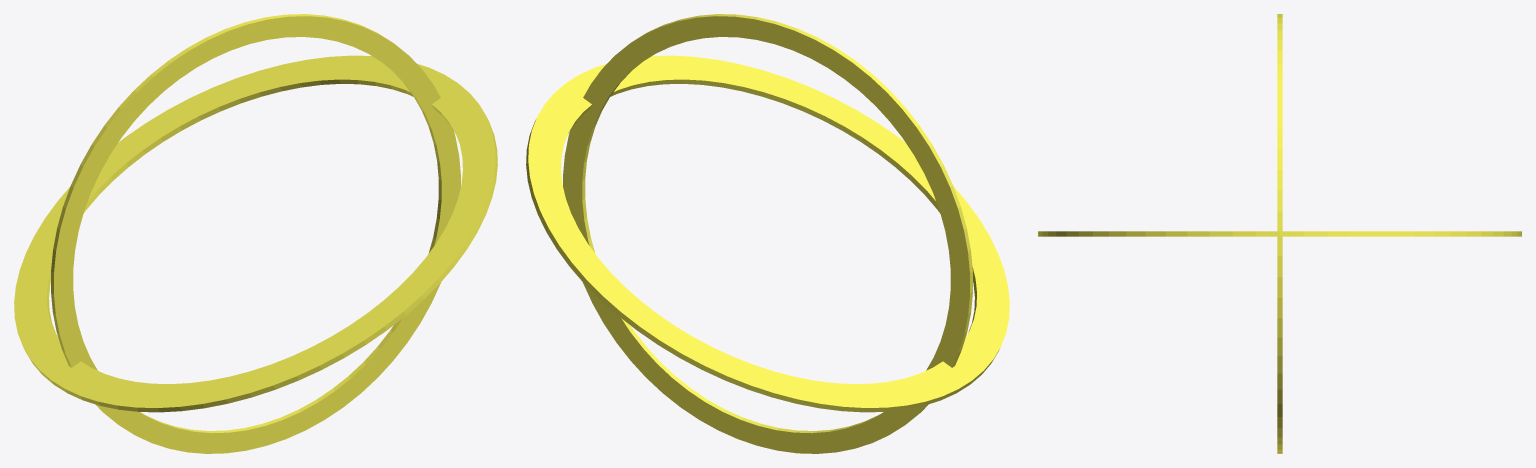
The model's file is frame.glb.
The picture shows the model from 3 angles, left to right: view 1: azimuth 30°, elevation 25°; view 2: azimuth 150°, elevation 25°; view 3: azimuth 270°, elevation 25°; orthographic projection. The views are drawn at different scales.
Visible parts, largest first — view 1: frame1; view 2: frame1; view 3: frame1.
Boxes of the visible parts, left/top/right/bottom form: frame1: left=14, top=14, right=497, bottom=453; frame1: left=526, top=14, right=1009, bottom=453; frame1: left=1038, top=14, right=1521, bottom=453.
Bounding box in the file's own units: 8.02 × 7.99 × 8.8.
